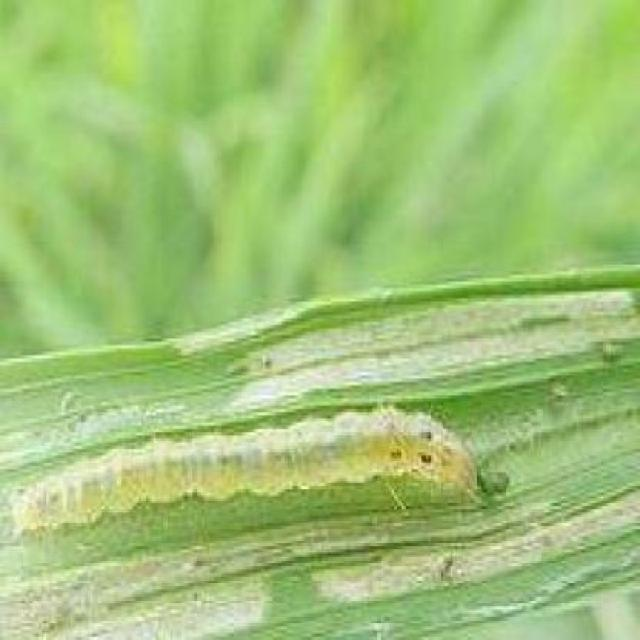leaf-folder: (2, 391, 502, 547)
